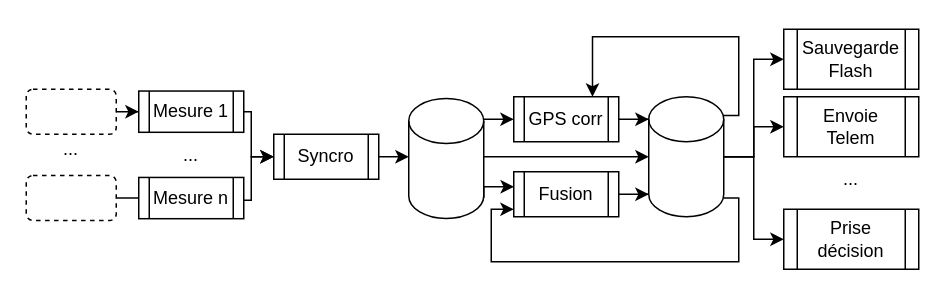
This 945x300 diagram has some shape labels left out. Here are the shapes that lost their labels. From the top down, the centre of each, then its label:
At (70,111): "Capteur 1".
At (445,158): "Brute".
At (685,156): "Brute + traité".
At (70,197): "Capteur n".
